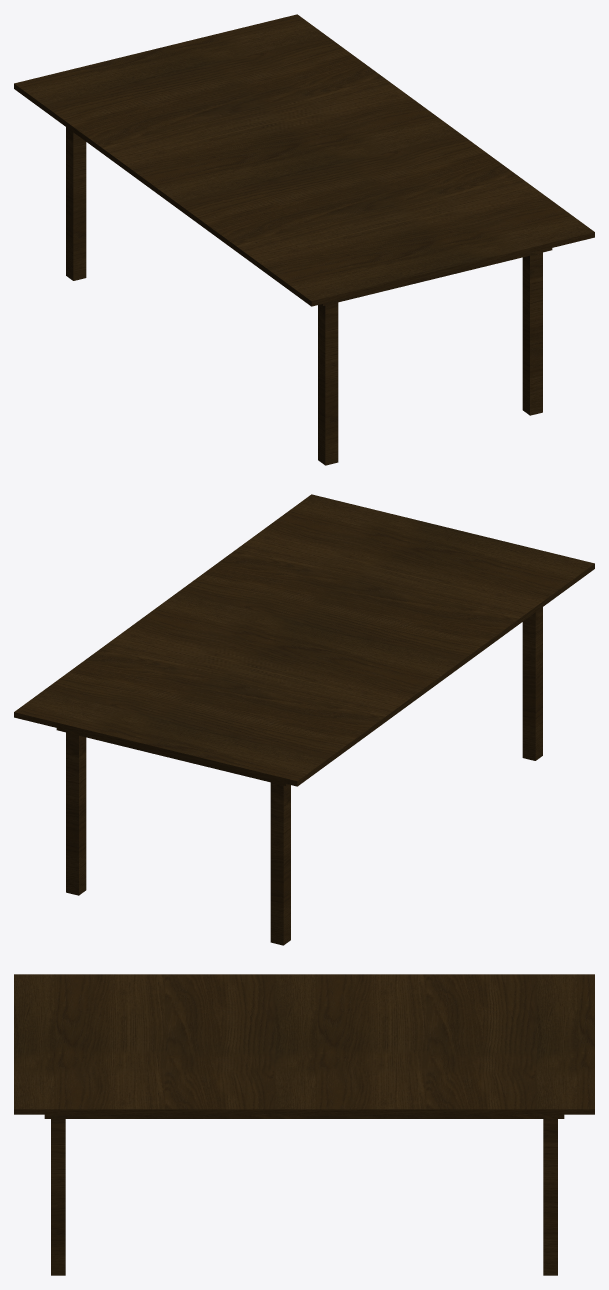
Rendered from Table.dae.
3 views of the same model, one above another, from view 1: azimuth 30°, elevation 25°; view 2: azimuth 150°, elevation 25°; view 3: azimuth 270°, elevation 25° (orthographic). The views are drawn at different scales.
Visible parts, largest first — view 1: ID25, ID17, ID4; view 2: ID25, ID17, ID4; view 3: ID25, ID17, ID4.
Boxes of the visible parts, x1=… form: ID25: x1=66, y1=36, x2=542, y2=465; ID17: x1=14, y1=14, x2=594, y2=306; ID4: x1=57, y1=32, x2=552, y2=305; ID25: x1=66, y1=516, x2=542, y2=945; ID17: x1=14, y1=494, x2=594, y2=786; ID4: x1=56, y1=512, x2=551, y2=785; ID25: x1=51, y1=990, x2=557, y2=1275; ID17: x1=14, y1=974, x2=594, y2=1114; ID4: x1=44, y1=987, x2=564, y2=1118.
Bounding box in the file's own units: 43.31 × 78.74 × 27.2.
1 material, 1 textured.
